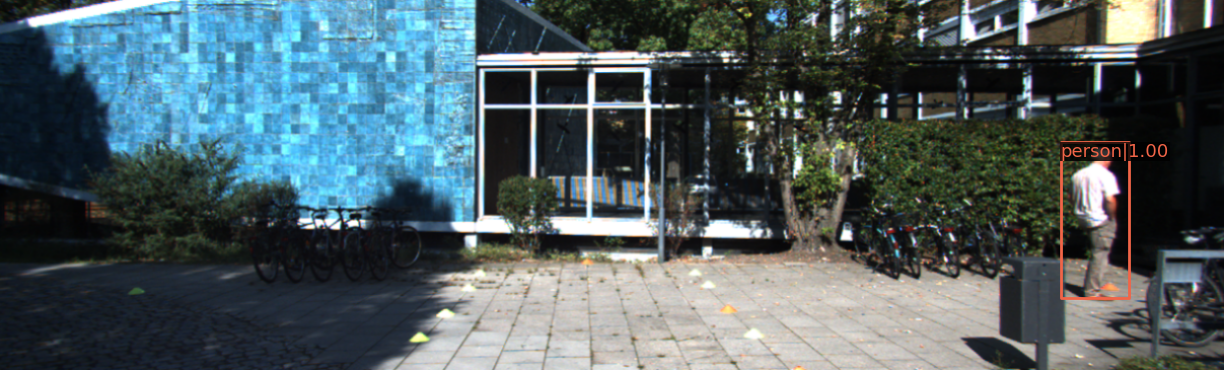person: (1065, 147, 1130, 306)
